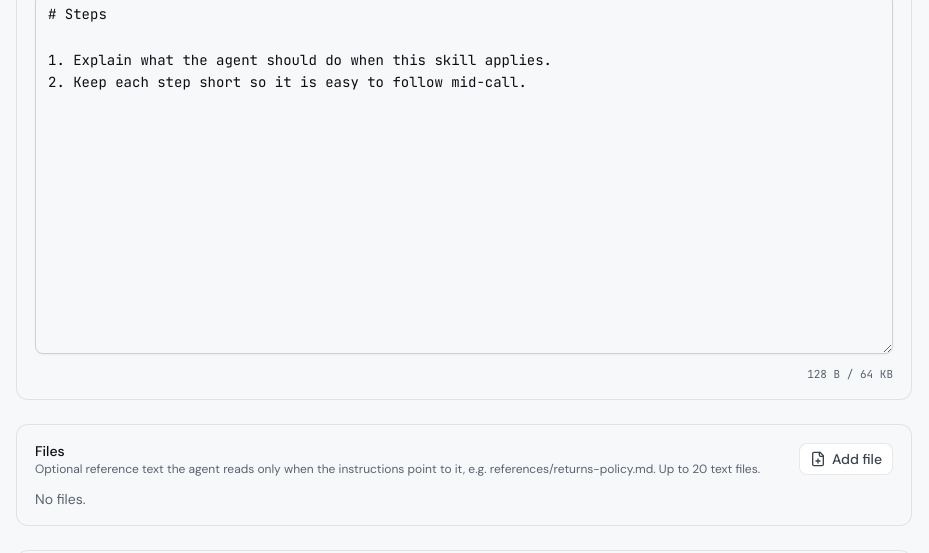
Scenario: WorkspaceSkillEditor › validates new file paths like the server
(page scrolled)
Click the button "Add file" at coordinates (846, 458), box [799,442,893,474]
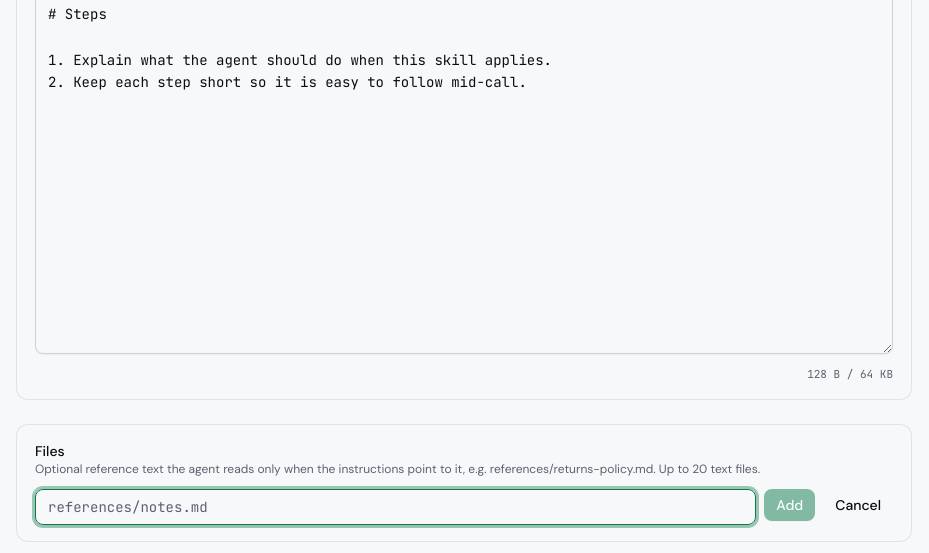
Type "../secret.md" into the field named "New file path" at coordinates (396, 506), box [35,488,756,524]
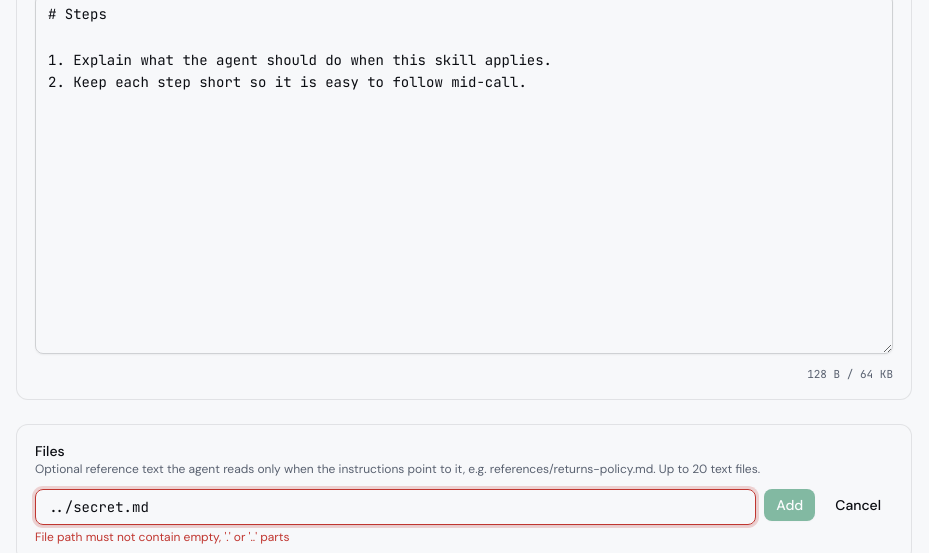
Check: the button "Add" is disabled, box [764,488,815,520]
Check: the text "File path must not contain empty, '.' or '..' parts" is shown, box [35,528,290,544]
Replace the text in the field named "New file path" with "SKILL.md" at coordinates (396, 506), box [35,488,756,524]
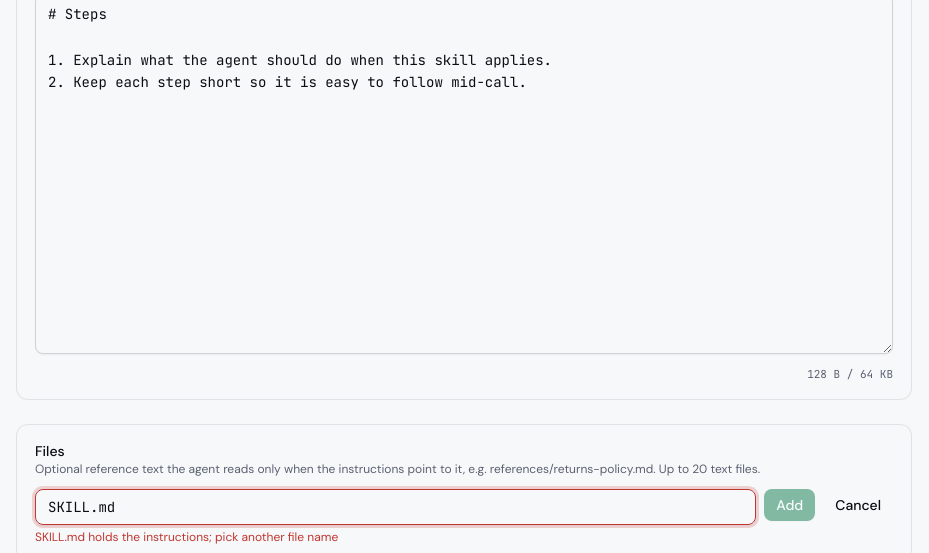
Check: the text "SKILL.md holds the instructions; pick another file name" is shown, box [35,528,338,544]
Replace the text in the field named "New file path" with "references/faq.md" at coordinates (396, 506), box [35,488,756,524]
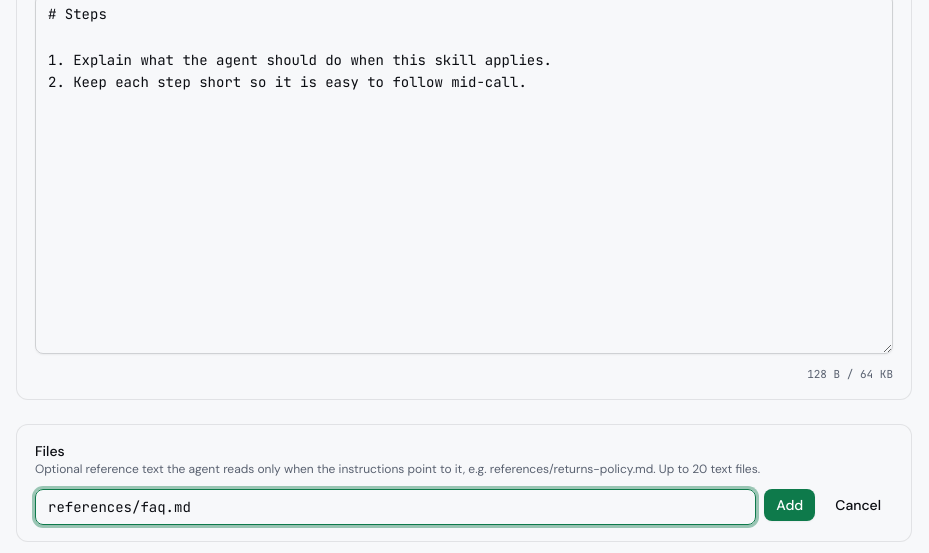
Click the button "Add" at coordinates (790, 504), box [764,488,815,520]
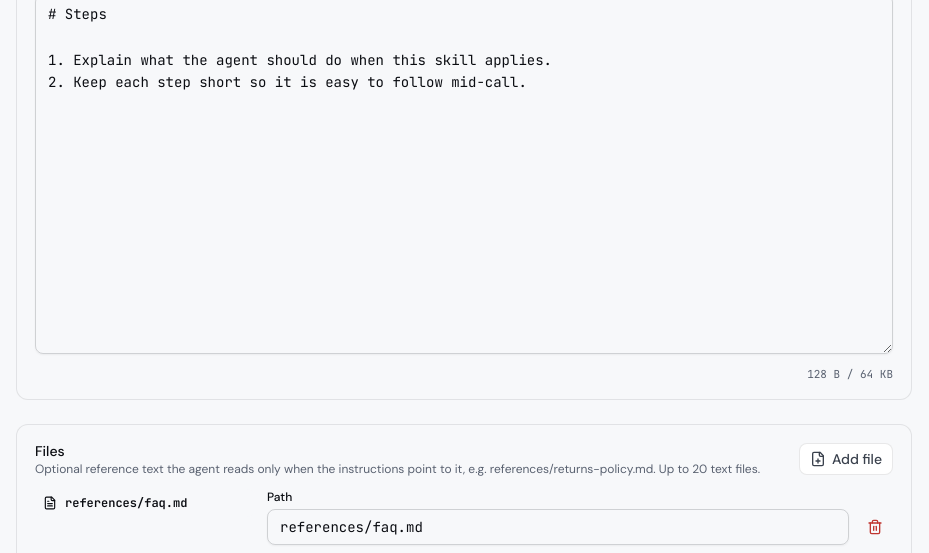
Check: the button "references/faq.md" is shown, box [35,488,255,516]
Check: the button named "Delete references/faq.md" is shown, box [857,508,893,544]
